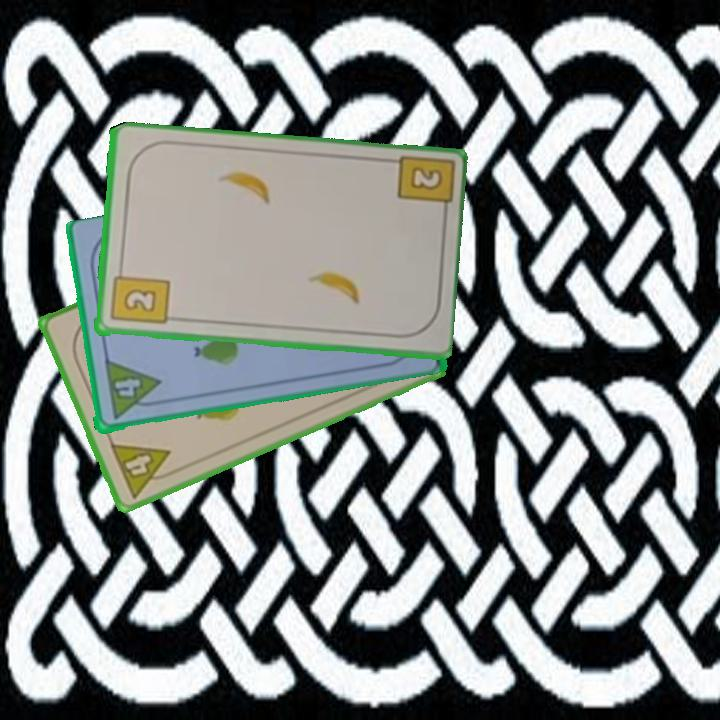2b: (392, 153, 453, 222), (107, 263, 171, 328)
4p: (106, 439, 181, 501), (100, 358, 165, 423)
